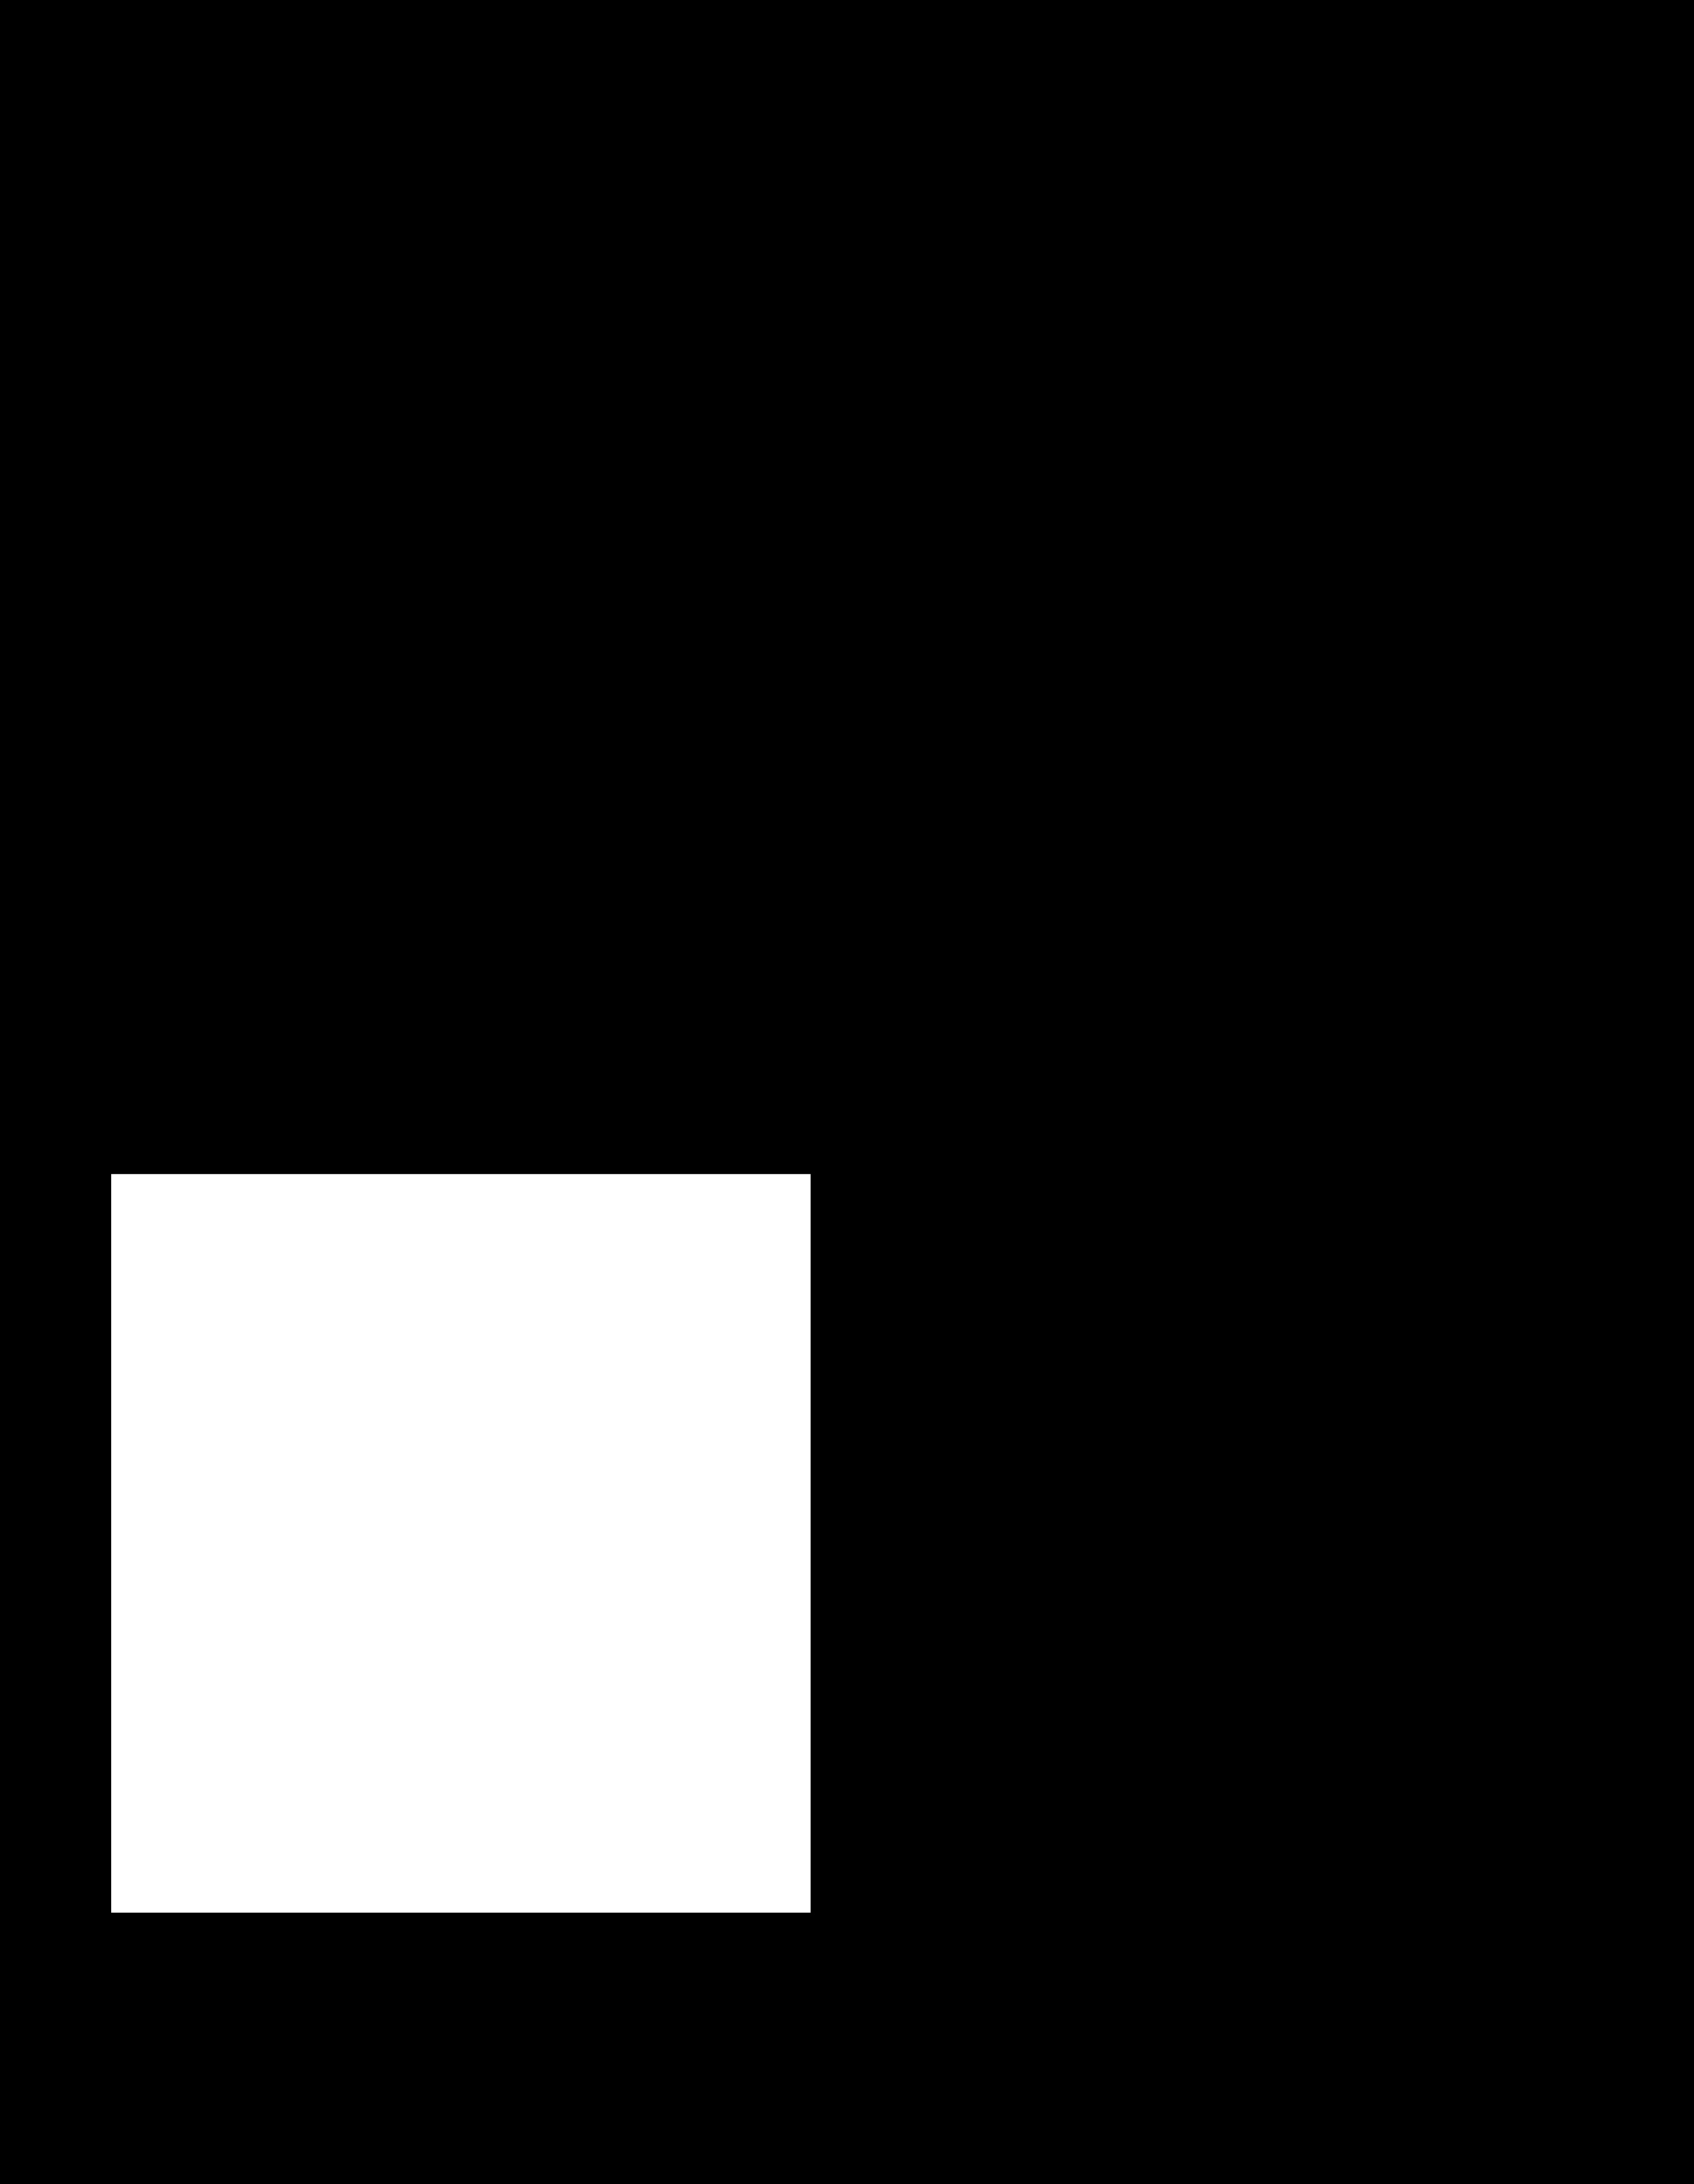table: (112, 1174, 810, 1913)
